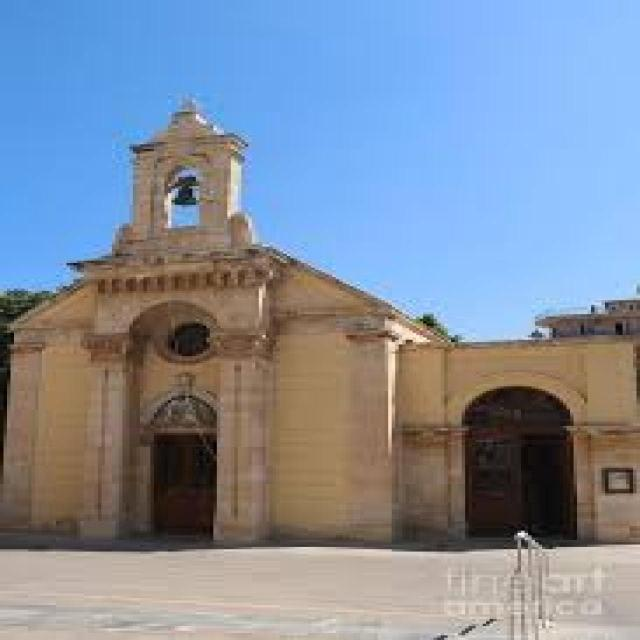Agios Minas: (5, 100, 640, 551)
